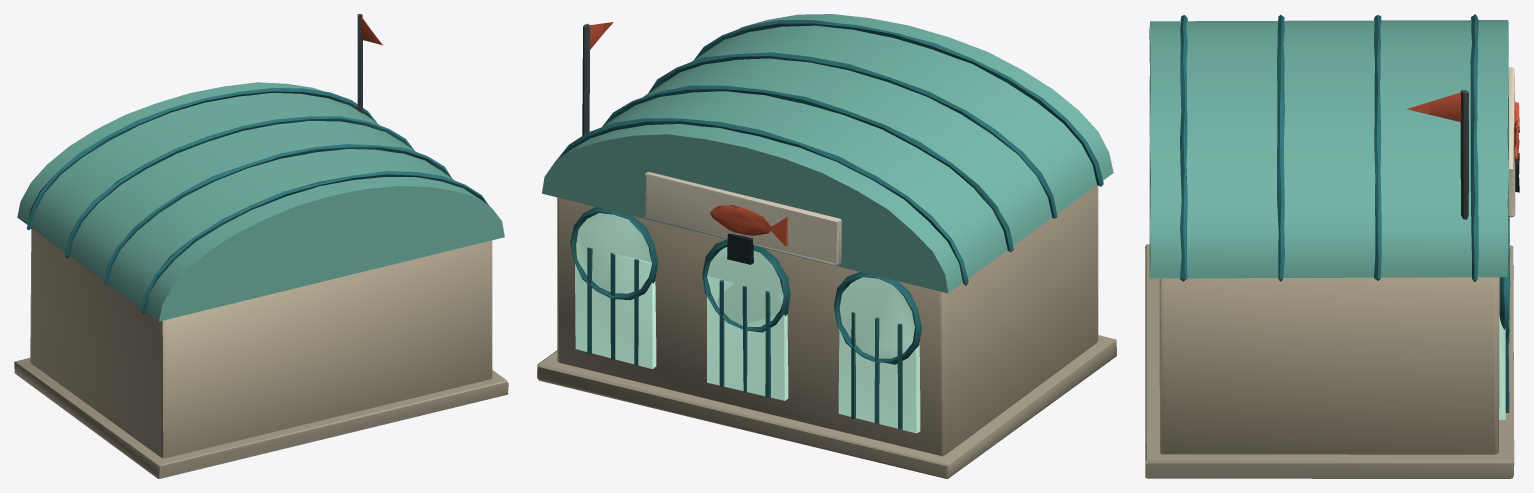
File: aquarium.glb
3 renders of one model, left to right at view 1: azimuth 30°, elevation 25°; view 2: azimuth 150°, elevation 25°; view 3: azimuth 270°, elevation 25°, orthographic. The views are drawn at different scales.
Parts seen in each view (by area): view 1: AquariumHouse; view 2: AquariumHouse; view 3: AquariumHouse.
Boxes of the visible parts, left/top/right/bottom form: AquariumHouse: left=14, top=14, right=508, bottom=478; AquariumHouse: left=537, top=14, right=1116, bottom=478; AquariumHouse: left=1145, top=14, right=1519, bottom=478.
Bounding box in the file's own units: 10.76 × 8.53 × 7.74.
